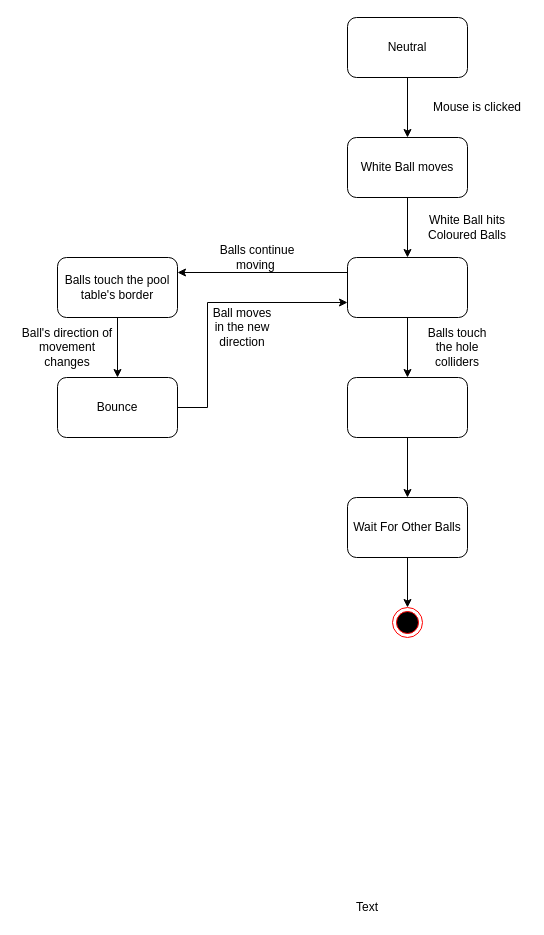
Image size: 544x935. Some labels were removed from this diagram. The box of each missing label's shape, as (x1, y1, x2, y2) in pixels:
Balls Disappear: (346, 376, 468, 438)
Coloured Balls move: (346, 256, 468, 318)
